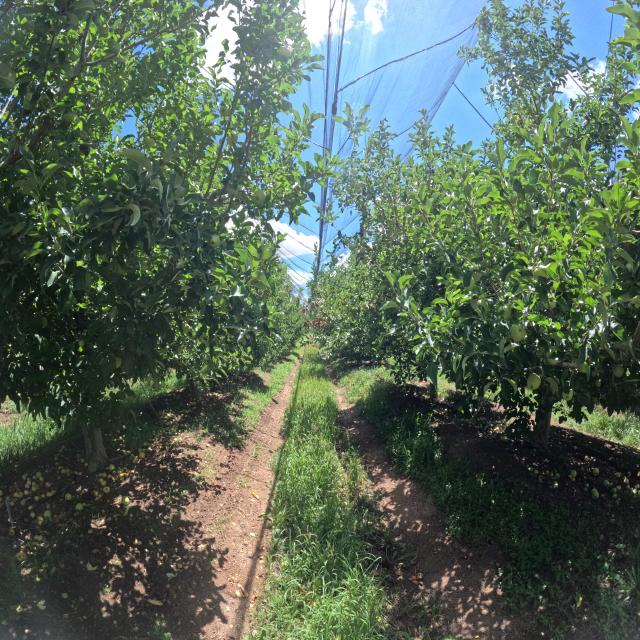-FireBlight-: (303, 314, 325, 331), (300, 302, 309, 313), (311, 300, 320, 307)
